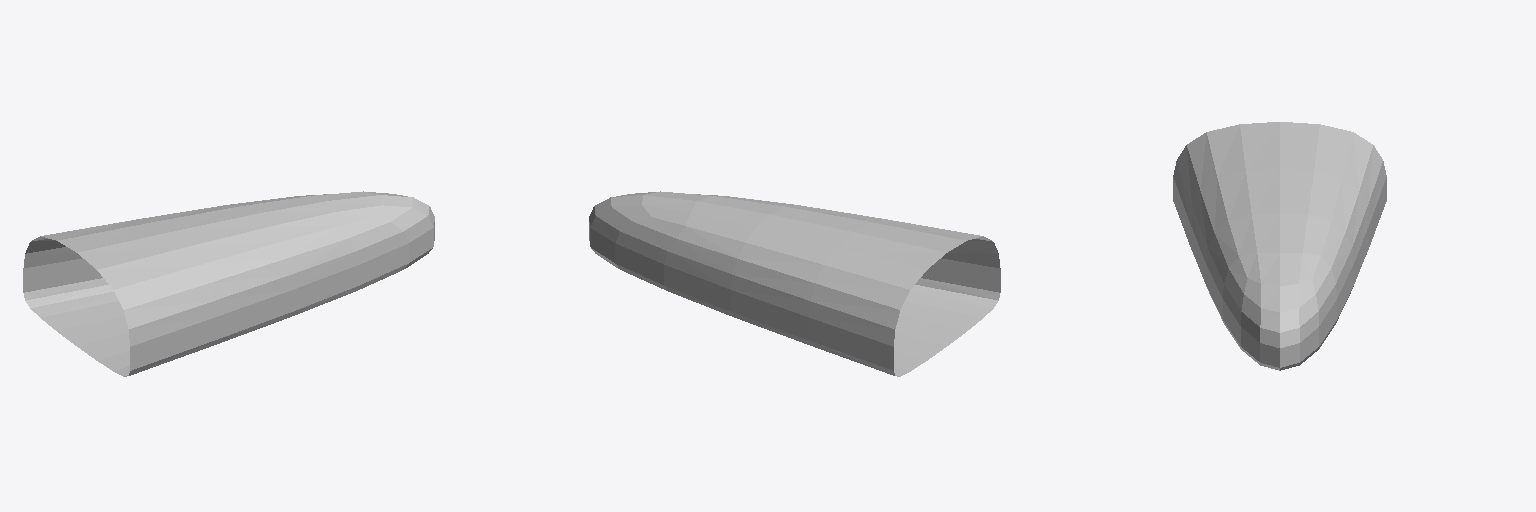
Rendered from tail.obj.
3 views of the same model, side by side, from view 1: azimuth 30°, elevation 25°; view 2: azimuth 150°, elevation 25°; view 3: azimuth 270°, elevation 25° (orthographic).
Visible parts, largest first — view 1: tail_Cube.003; view 2: tail_Cube.003; view 3: tail_Cube.003.
Part boxes in pixels (left/top/right/bottom): tail_Cube.003: left=23, top=191, right=434, bottom=376; tail_Cube.003: left=589, top=191, right=1000, bottom=376; tail_Cube.003: left=1173, top=122, right=1386, bottom=370.
Size of the model in its own units: 0.9688 by 0.2422 by 0.5.